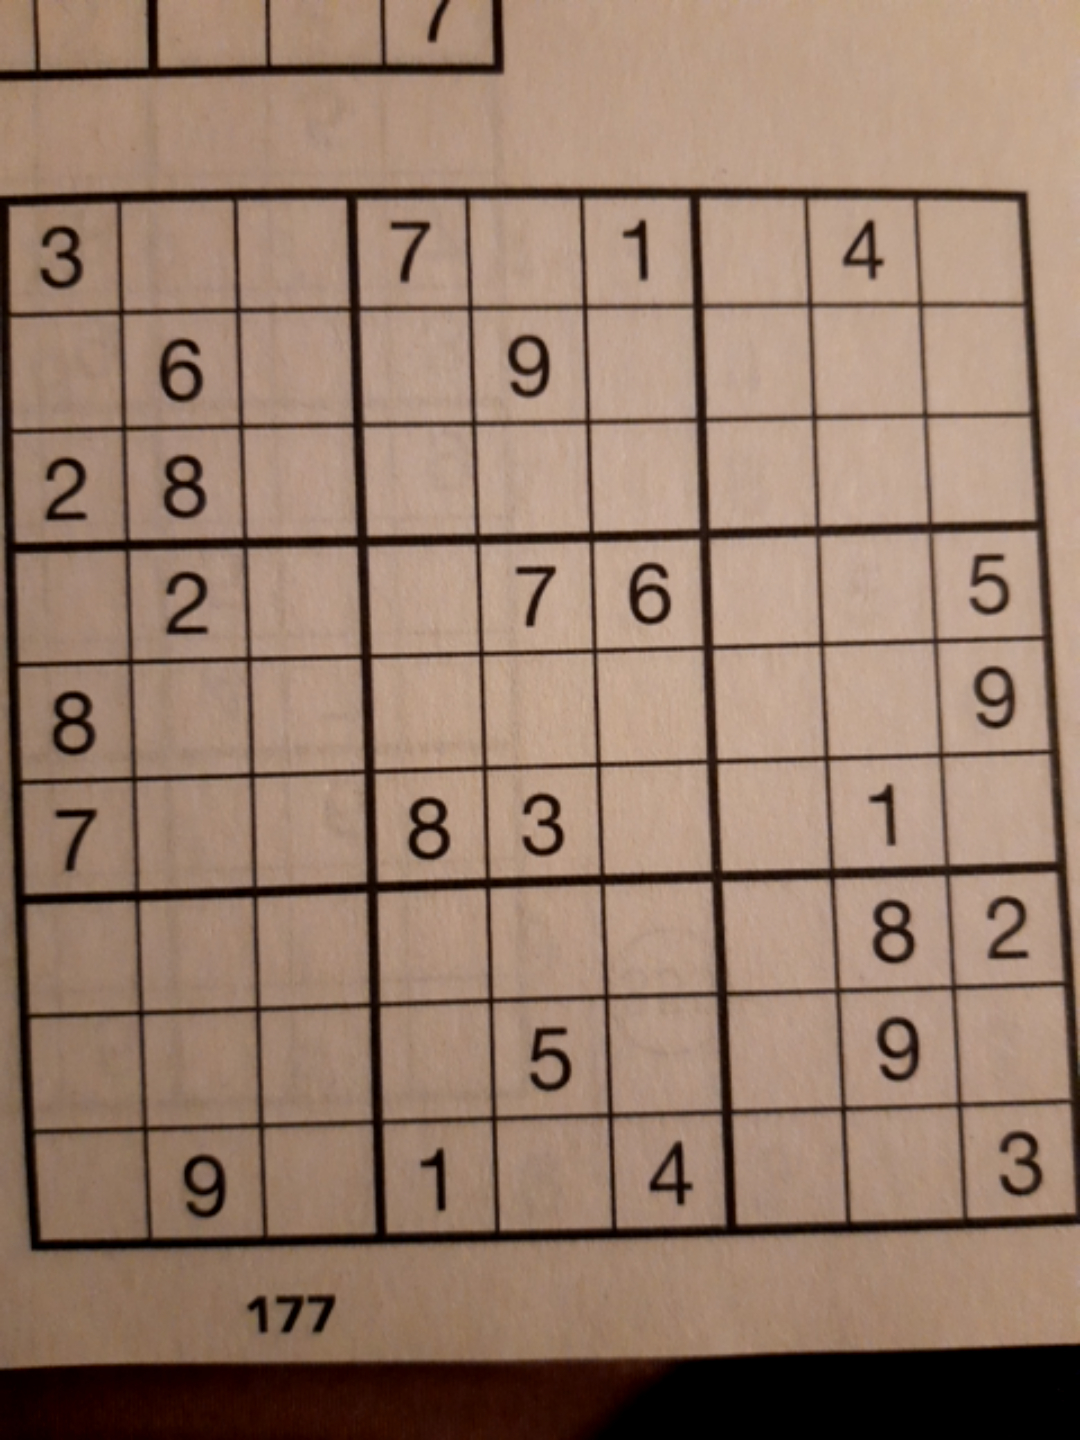sudoku: (2, 180, 1074, 1248)
